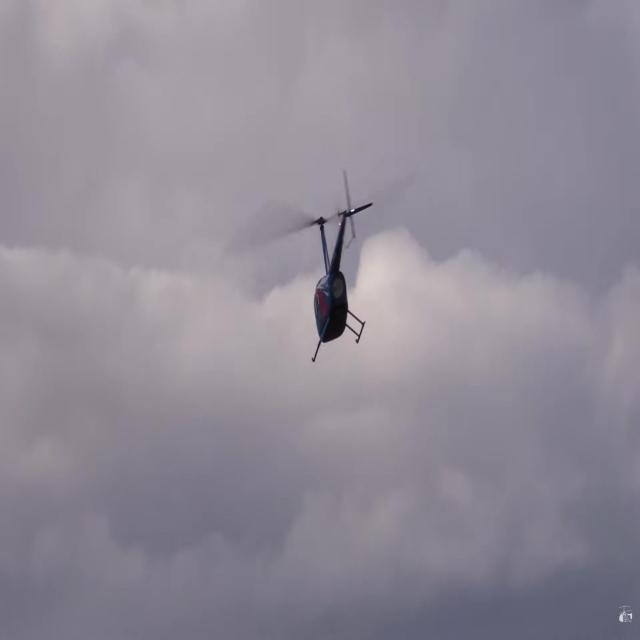CIV_HELO: (310, 171, 375, 366)
